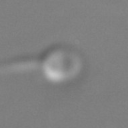normal: (1, 50, 41, 81)
